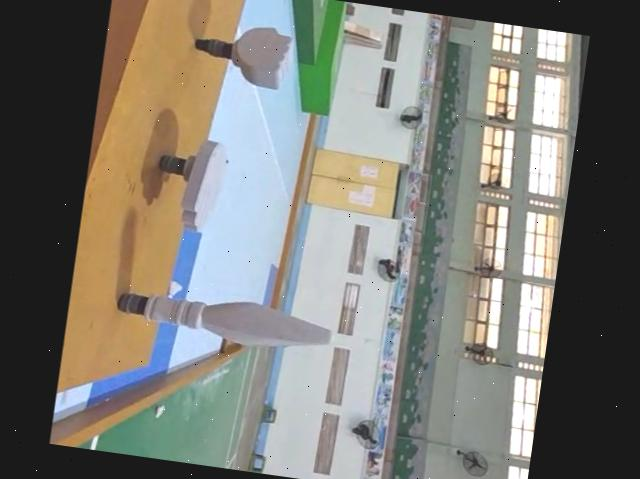Fist: (192, 15, 297, 92)
Hand: (148, 128, 236, 234)
Sph: (108, 277, 334, 358)
